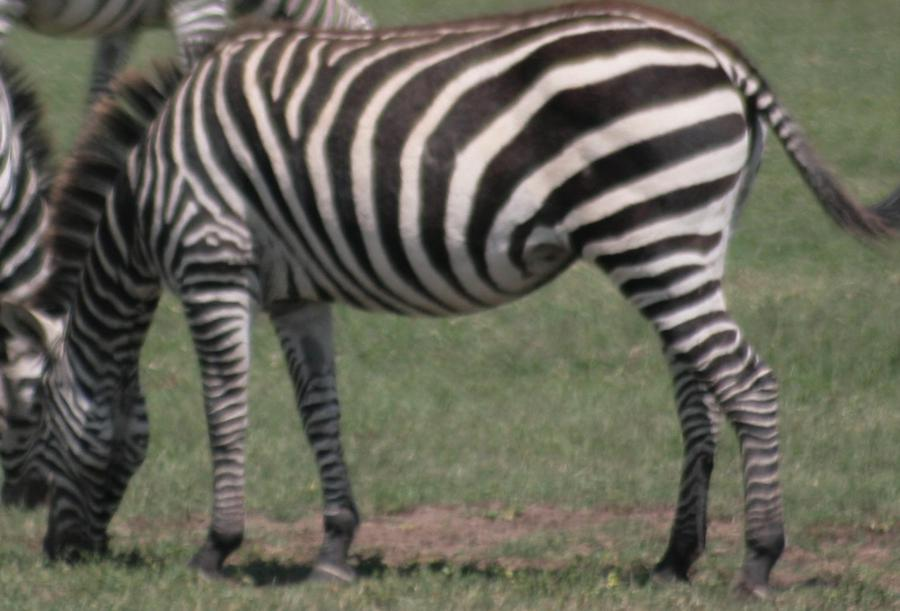zebra_plains: (141, 7, 783, 335)
